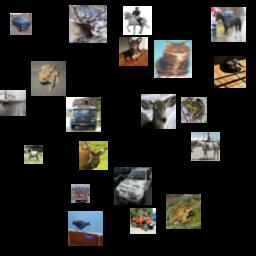automobile: (114, 167, 152, 205), (10, 13, 32, 35)
bird: (68, 211, 103, 246)
cat: (154, 40, 192, 78), (214, 56, 246, 88)
deer: (69, 5, 107, 43), (141, 94, 176, 129), (79, 141, 108, 170)
dog: (119, 37, 148, 66)
frog: (166, 194, 201, 229), (31, 61, 66, 96), (181, 97, 207, 123)
ship: (0, 90, 26, 116)
truck: (66, 97, 101, 132), (130, 208, 156, 234), (71, 184, 90, 203)
